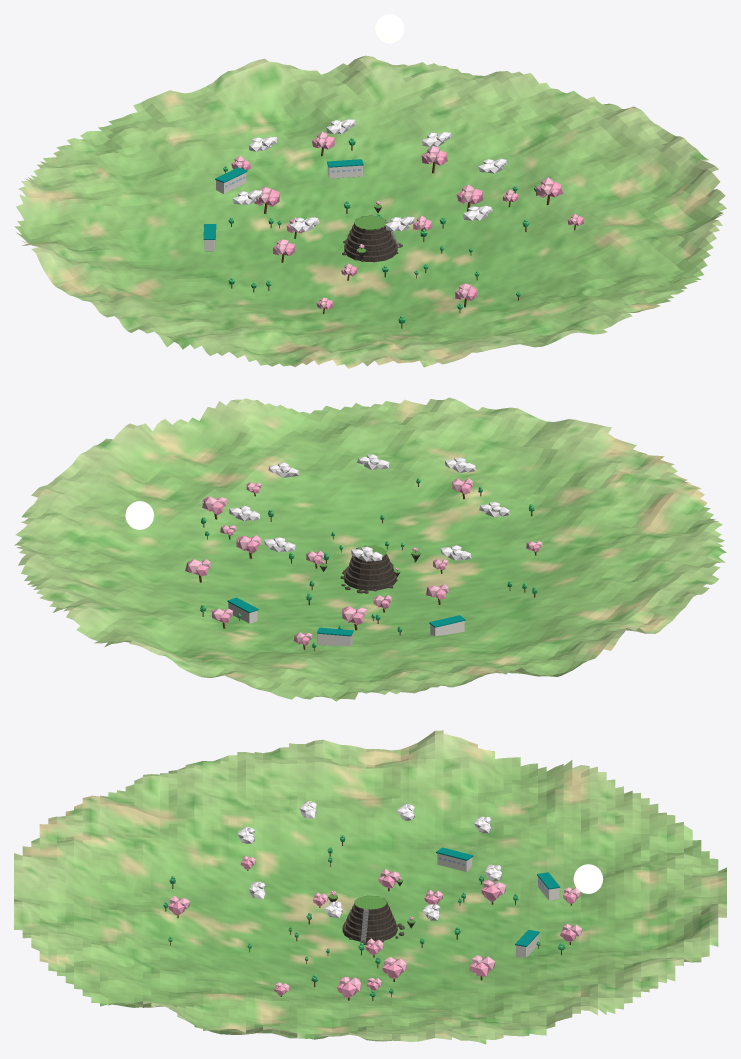
File: env_care.glb
The picture shows the model from 3 angles, top to bottom: view 1: azimuth 30°, elevation 25°; view 2: azimuth 150°, elevation 25°; view 3: azimuth 270°, elevation 25°; orthographic projection. The views are drawn at different scales.
Visible parts, largest first — view 1: env_terrain_vc, env_cloud, env_sakura2, env_sakura, env_rock, env_wall, env_roof_t, env_sun; view 2: env_terrain_vc, env_cloud, env_sakura, env_rock, env_sakura2, env_wall, env_roof_t, env_sun; view 3: env_terrain_vc, env_sakura2, env_cloud, env_sakura, env_rock, env_wall, env_roof_t, env_sun.
Part boxes in pixels (box(x1,y1,x2,y2)): env_terrain_vc: box(14, 55, 726, 368); env_cloud: box(232, 119, 506, 231); env_sakura2: box(231, 136, 583, 309); env_sakura: box(234, 131, 577, 308); env_rock: box(314, 207, 402, 262); env_wall: box(204, 165, 362, 251); env_roof_t: box(203, 159, 363, 239); env_sun: box(375, 14, 404, 43); env_terrain_vc: box(14, 397, 726, 701); env_cloud: box(229, 454, 509, 561); env_sakura: box(187, 478, 542, 643); env_rock: box(319, 545, 420, 593); env_sakura2: box(185, 478, 539, 645); env_wall: box(228, 602, 464, 646); env_roof_t: box(227, 597, 465, 636); env_sun: box(125, 501, 153, 529); env_terrain_vc: box(14, 730, 726, 1044); env_sakura2: box(168, 860, 576, 997); env_cloud: box(237, 801, 501, 920); env_sakura: box(169, 855, 582, 992); env_rock: box(328, 881, 415, 944); env_wall: box(437, 853, 559, 957); env_roof_t: box(436, 847, 560, 946); env_sun: box(573, 864, 602, 893).
Size of the model in its own units: 144 by 28.94 by 144.
6 materials, 6 textured.
